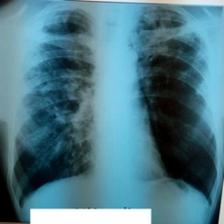tuberculosis: (3, 3, 224, 208)
